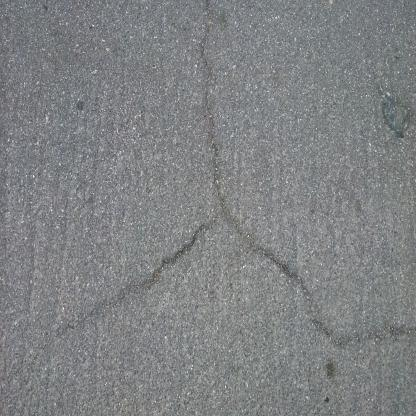Cracks: (196, 1, 416, 358), (65, 208, 223, 333)
